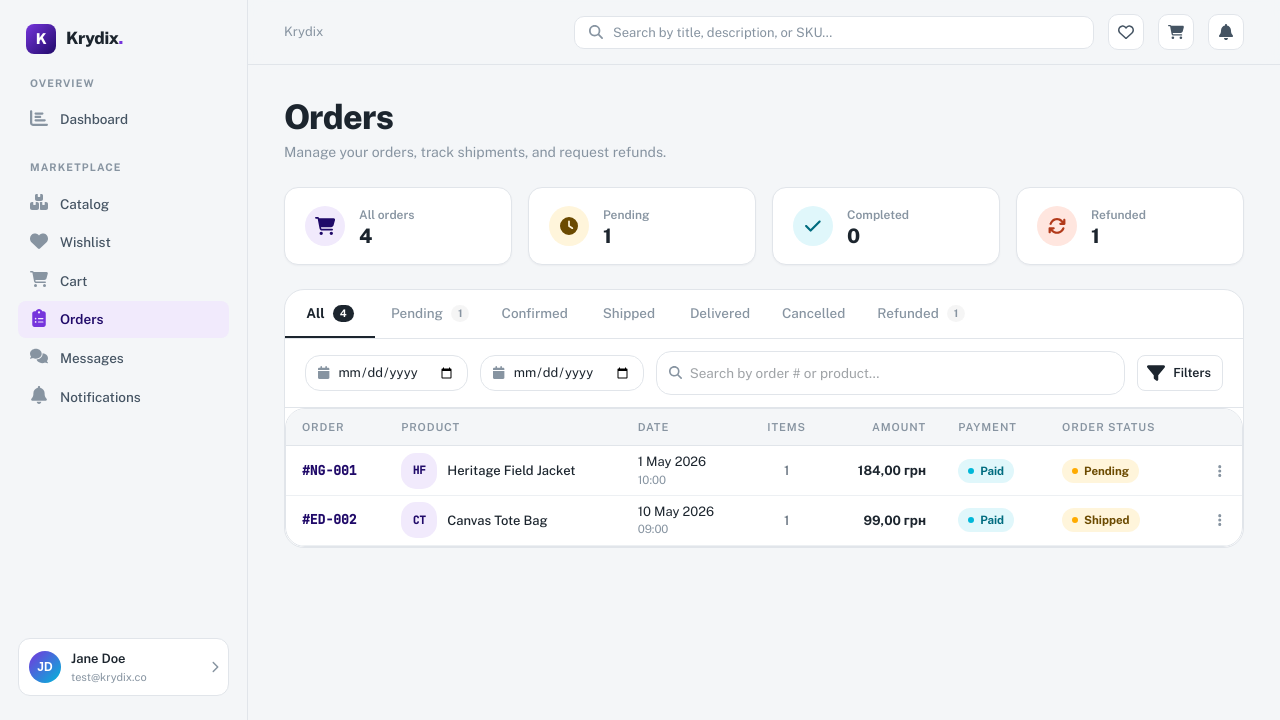
Test: Buyer orders list — /orders › filters orders when Pending tab is clicked
This screenshot has width=1280, height=720.
What coordinates should you click on to do the following:
click the tab "Pending 1"
I would click on:
 (431, 314)
Its box is [375,290,486,338].
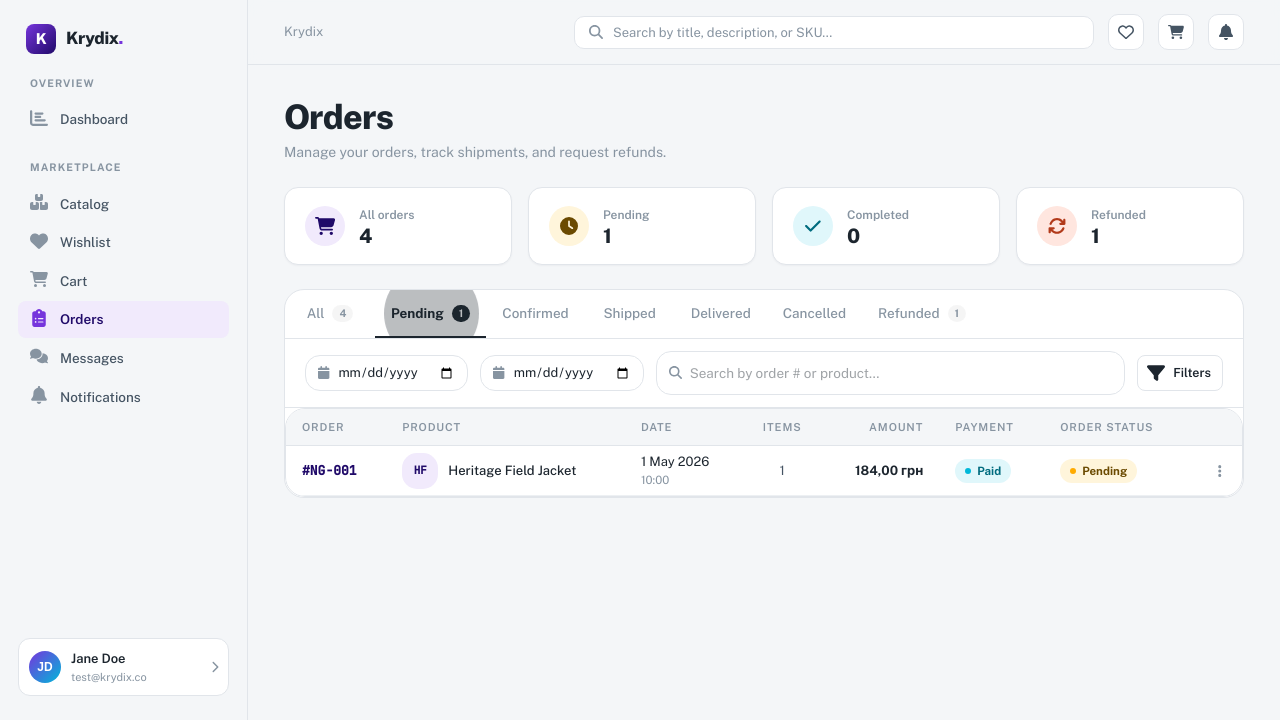
Expected: the text "Heritage Field Jacket" is shown, [448,461,576,480]
Now the text "Canvas Tote Bag" is gone
